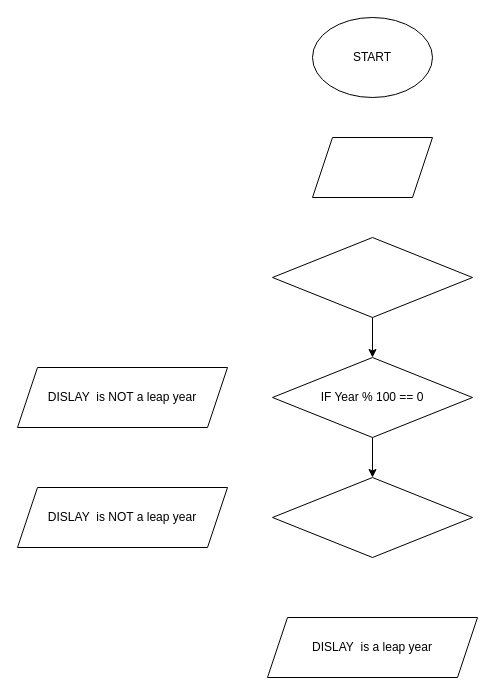
The diagram is 495 pixels wide and 695 high, and some of its shapes have lost their labels. Here are the shapes that lost their labels. From the top down, the centre of each, then its label:
At (372,167): "INPUT Yaer".
At (372,277): "IF Year % 4 == 0".
At (372,517): "IF Year % 400 == 0".
